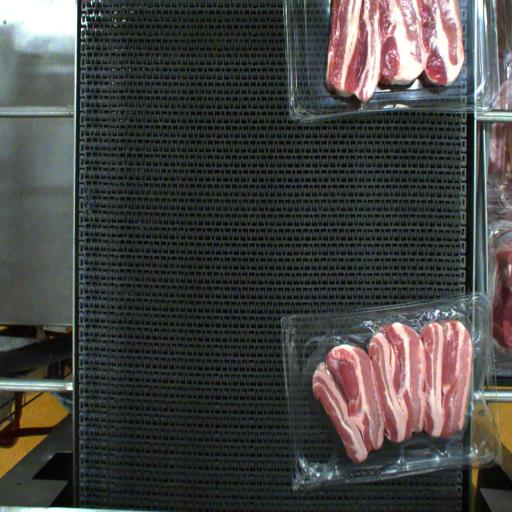unsealed: (300, 302, 486, 479)
